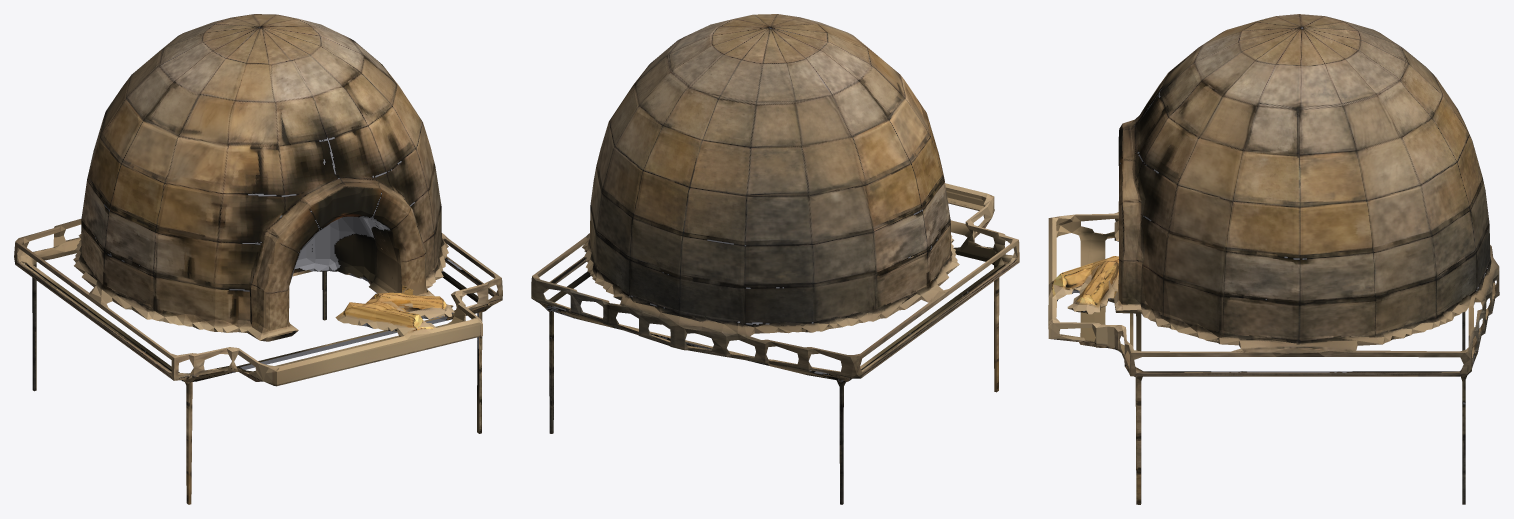
File: tut_oven.glb
3 views of the same model, side by side, from view 1: azimuth 30°, elevation 25°; view 2: azimuth 150°, elevation 25°; view 3: azimuth 270°, elevation 25° (orthographic). The views are drawn at different scales.
Visible parts, largest first — view 1: tut_oven; view 2: tut_oven; view 3: tut_oven.
Boxes of the visible parts, x1=… form: tut_oven: x1=14, y1=14, x2=502, y2=504; tut_oven: x1=531, y1=14, x2=1019, y2=504; tut_oven: x1=1048, y1=14, x2=1499, y2=504.
Size of the model in its own units: 1.71 by 1.9 by 1.92.
Materials: 1 (1 with a texture image).
